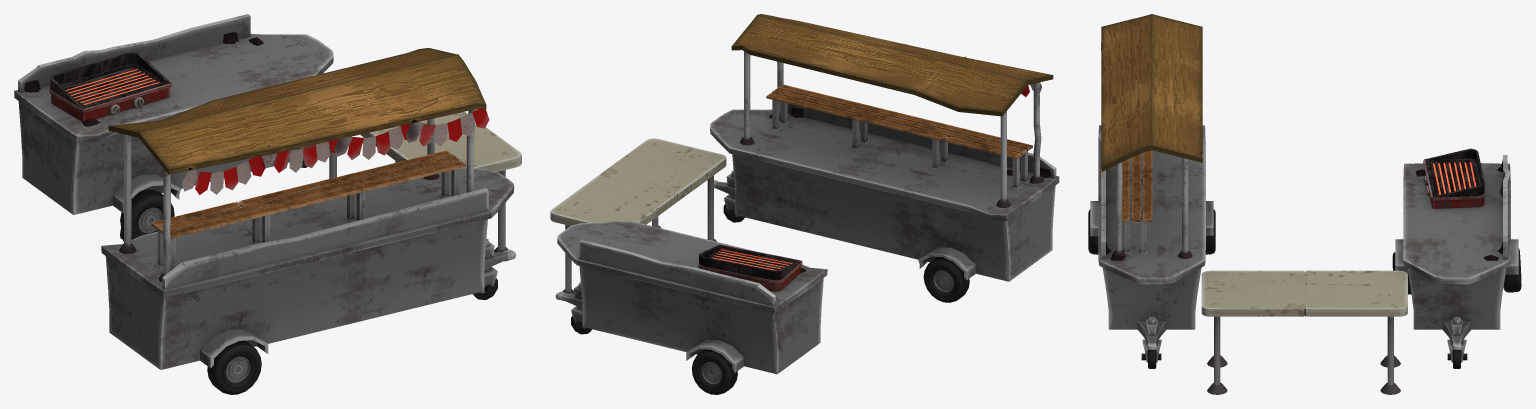
File: Carrito_V3.fbx
3 renders of one model, left to right at view 1: azimuth 30°, elevation 25°; view 2: azimuth 150°, elevation 25°; view 3: azimuth 270°, elevation 25°, orthographic. The views are drawn at different scales.
Visible parts, largest first — view 1: CARRO; view 2: CARRO; view 3: CARRO.
Part boxes in pixels (<box>): CARRO: <box>14,14,521,394</box>; CARRO: <box>550,14,1059,394</box>; CARRO: <box>1088,14,1521,394</box>.
Size of the model in its own units: 455 by 477 by 258.
